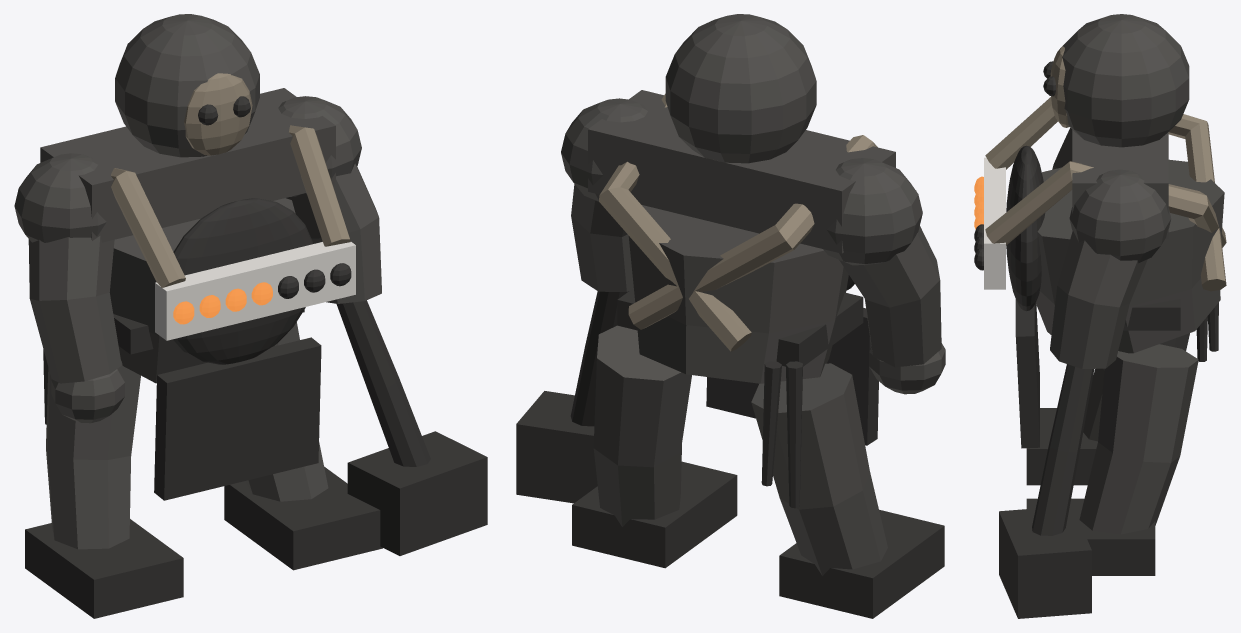
The model's file is hammerman.glb.
3 renders of one model, left to right at view 1: azimuth 30°, elevation 25°; view 2: azimuth 150°, elevation 25°; view 3: azimuth 270°, elevation 25°, orthographic. The views are drawn at different scales.
Visible parts, largest first — view 1: hammerman_body, hammerman_dark, hammerman_bone, hammerman_glow; view 2: hammerman_body, hammerman_dark; view 3: hammerman_body, hammerman_dark, hammerman_bone, hammerman_glow.
Part boxes in pixels (x1,y1,x2,y2): hammerman_body: (14,14,381,549); hammerman_dark: (25,96,487,618); hammerman_bone: (155,242,355,340); hammerman_glow: (173,282,272,324); hammerman_body: (561,14,945,575); hammerman_dark: (516,275,944,618); hammerman_body: (985,14,1226,534); hammerman_dark: (974,61,1218,618); hammerman_bone: (984,157,1005,289); hammerman_glow: (974,176,983,229).
Size of the model in its own units: 1.86 by 2.26 by 1.05.
